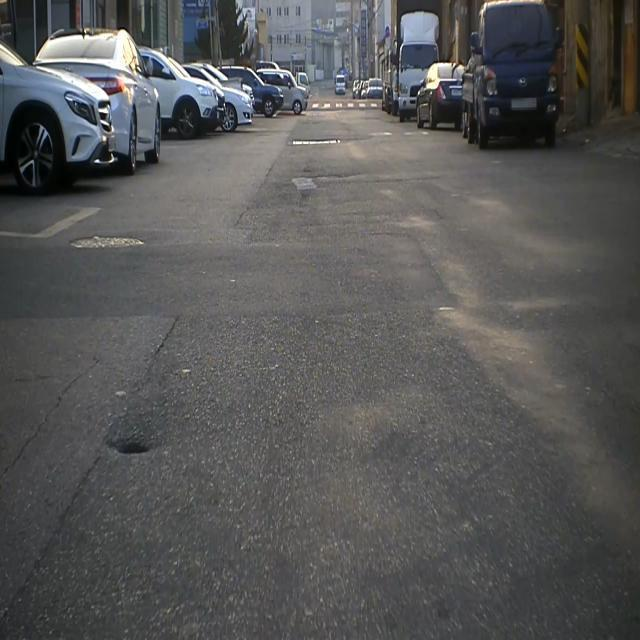pothole: (99, 420, 167, 475)
